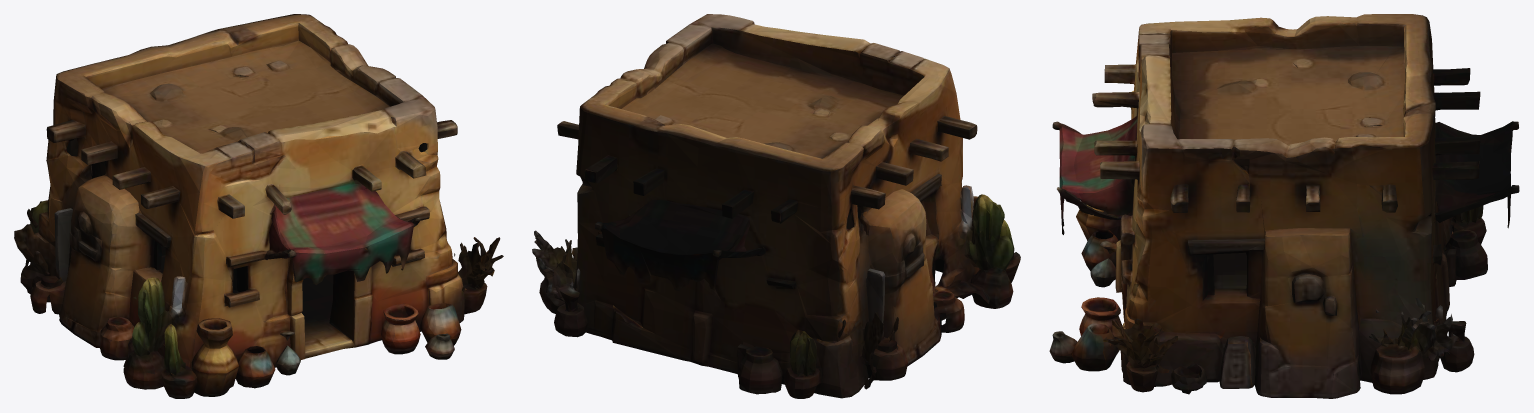
File: house.glb
3 renders of one model, left to right at view 1: azimuth 30°, elevation 25°; view 2: azimuth 150°, elevation 25°; view 3: azimuth 270°, elevation 25°, orthographic. The views are drawn at different scales.
Parts seen in each view (by area): view 1: world; view 2: world; view 3: world.
Part boxes in pixels (x1,y1,x2,y2): world: (14,14,503,398); world: (532,14,1020,398); world: (1049,14,1519,398).
Size of the model in its own units: 0.7802 by 0.4584 by 0.8099.
1 material, 1 textured.
